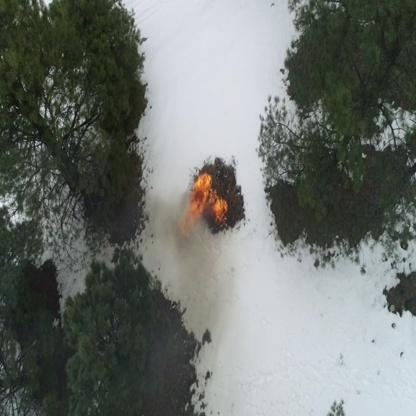Fire: (209, 188, 230, 227), (189, 192, 210, 216), (192, 174, 210, 197), (183, 219, 198, 225)
